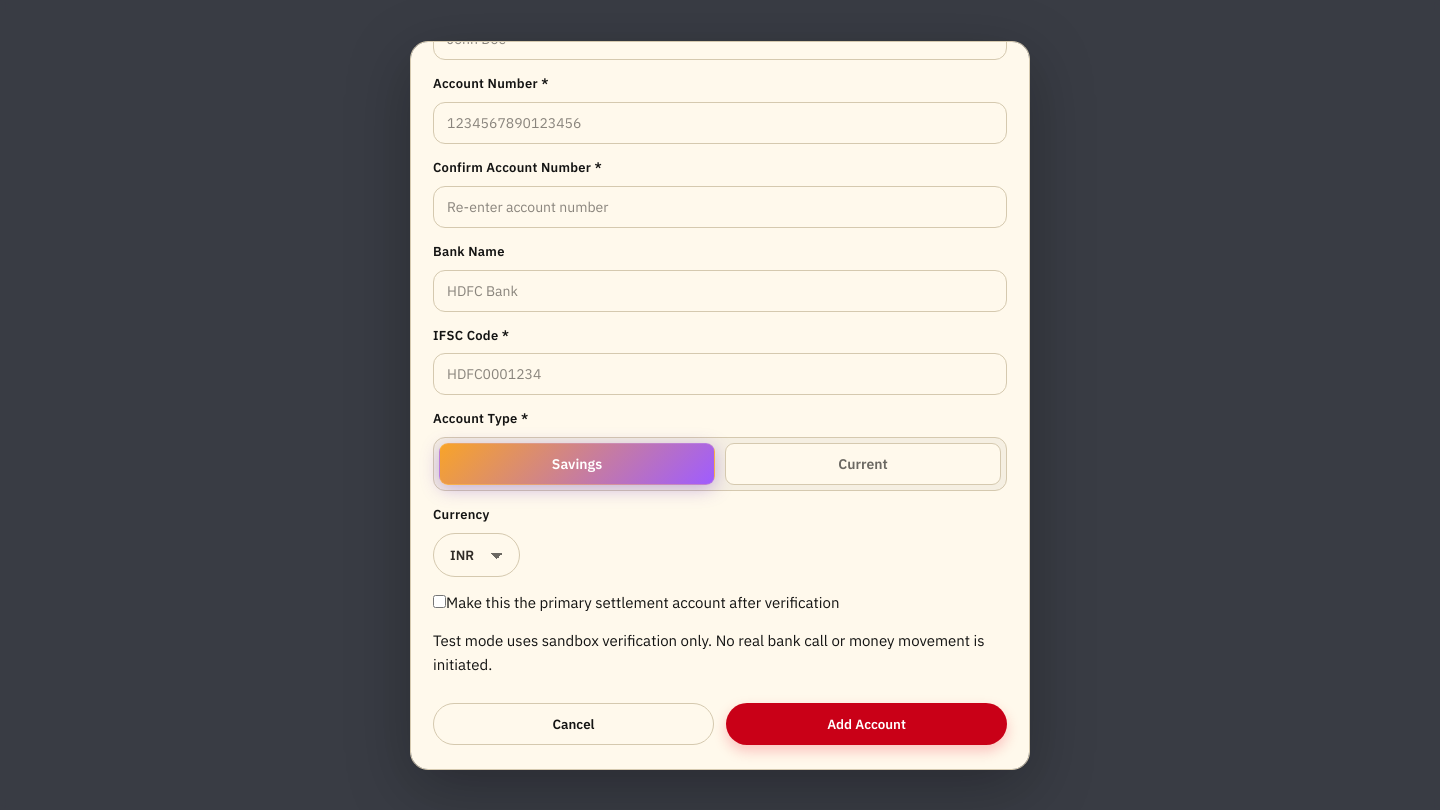
AddBankAccountForm › shows validation errors for invalid form submit
(page scrolled)
Click the button "Add Account" at {"x": 866, "y": 724}, box [726,703,1007,745]
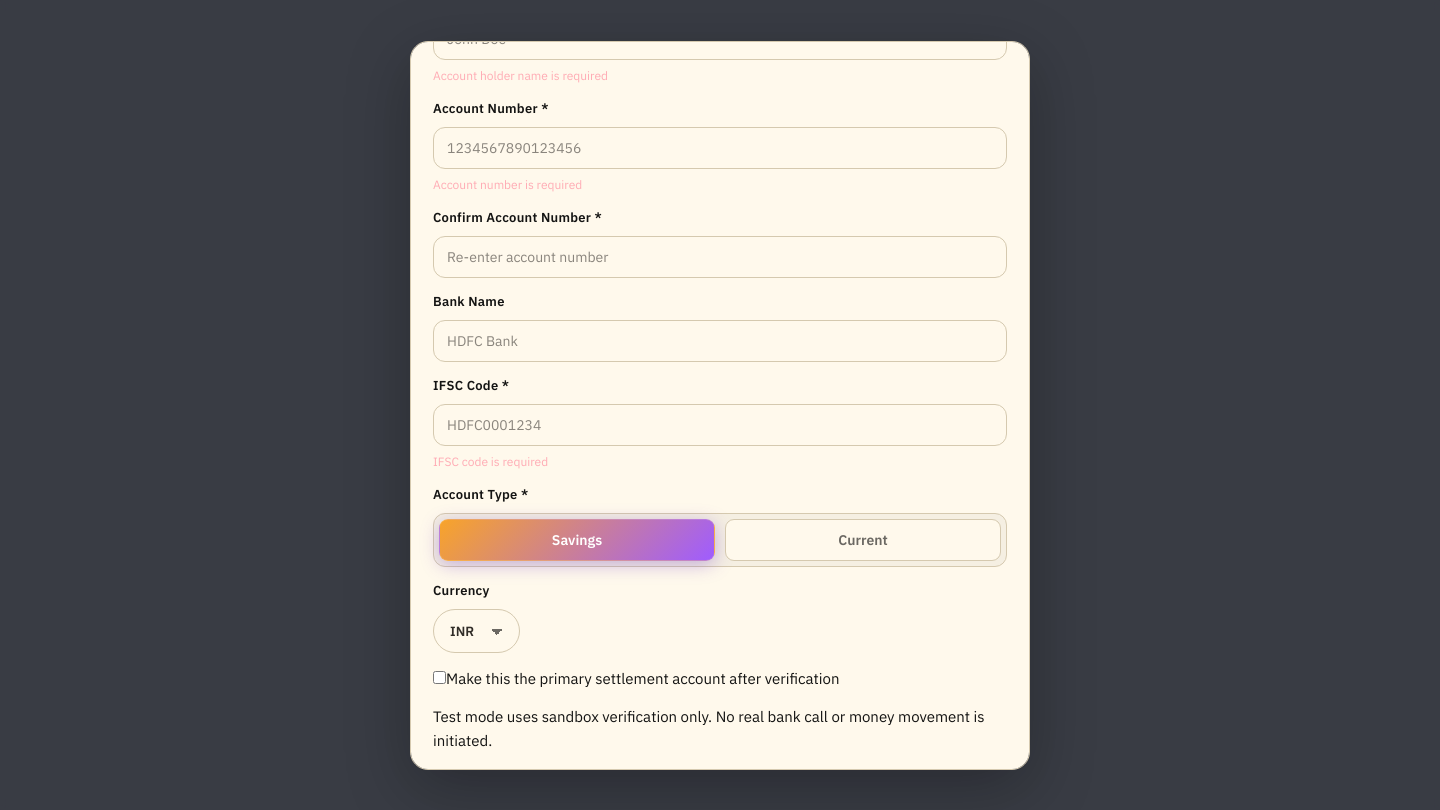
Expected: the text "Account holder name is required" is shown, [433,68,608,83]
Expected: the text "Account number is required" is shown, [433,177,582,192]
Expected: the text "IFSC code is required" is shown, [433,454,548,469]
